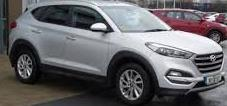SUV: (10, 4, 225, 104)
